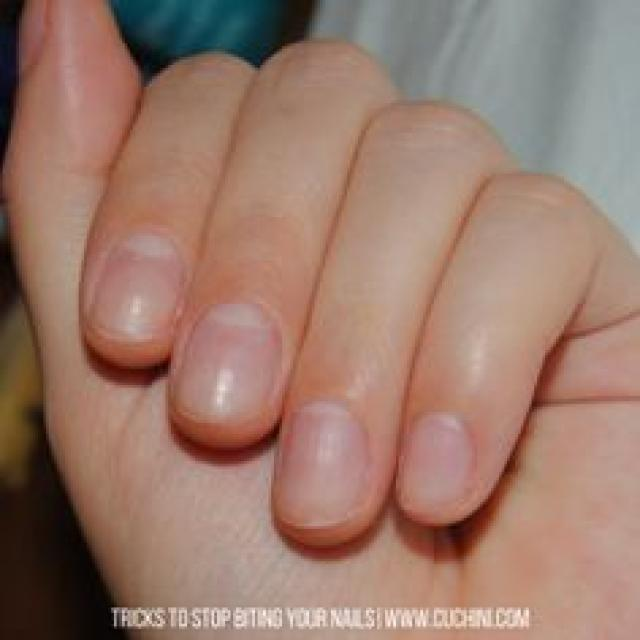Fingernail: (175, 303, 281, 425), (278, 399, 372, 528), (90, 233, 183, 345), (401, 412, 476, 511)
